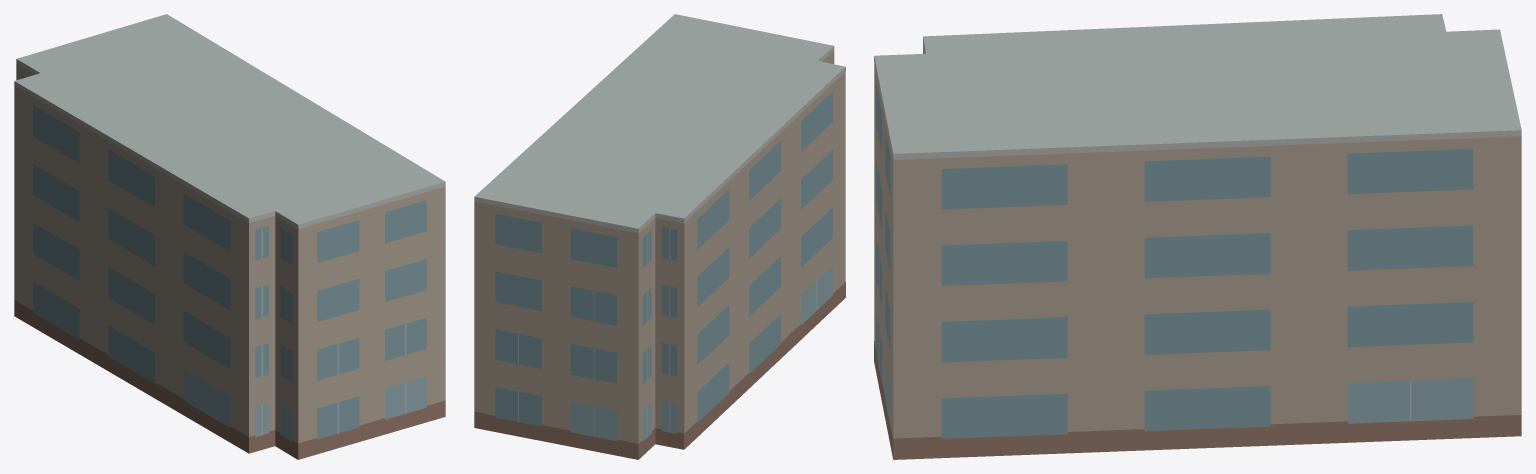
Rendered from survey-upis-33022767.glb.
3 renders of one model, left to right at view 1: azimuth 30°, elevation 25°; view 2: azimuth 150°, elevation 25°; view 3: azimuth 270°, elevation 25°, orthographic. The views are drawn at different scales.
Parts seen in each view (by area): view 1: survey-upis-33022767.tmp; view 2: survey-upis-33022767.tmp; view 3: survey-upis-33022767.tmp.
Part boxes in pixels (x1,y1,x2,y2): survey-upis-33022767.tmp: (14, 14, 445, 459); survey-upis-33022767.tmp: (474, 14, 845, 459); survey-upis-33022767.tmp: (874, 14, 1521, 459).
Size of the model in its own units: 11.88 by 12.1 by 23.22.
